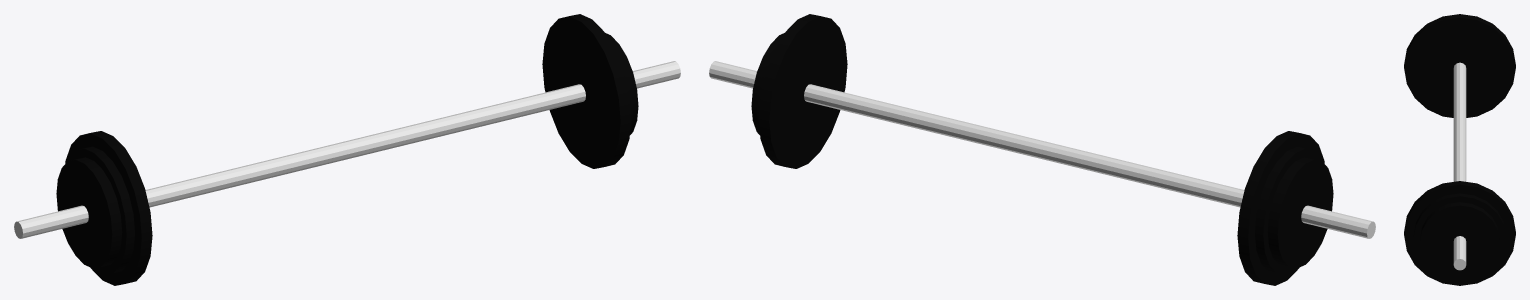
The model's file is Barbell.fbx.
3 views of the same model, side by side, from view 1: azimuth 30°, elevation 25°; view 2: azimuth 150°, elevation 25°; view 3: azimuth 270°, elevation 25° (orthographic). The views are drawn at different scales.
Visible parts, largest first — view 1: Barbell; view 2: Barbell; view 3: Barbell.
Boxes of the visible parts, x1=… form: Barbell: x1=14, y1=14, x2=680, y2=285; Barbell: x1=709, y1=14, x2=1375, y2=285; Barbell: x1=1404, y1=14, x2=1515, y2=285.
Size of the model in its own units: 544 by 112 by 112.
1 material, 1 textured.
